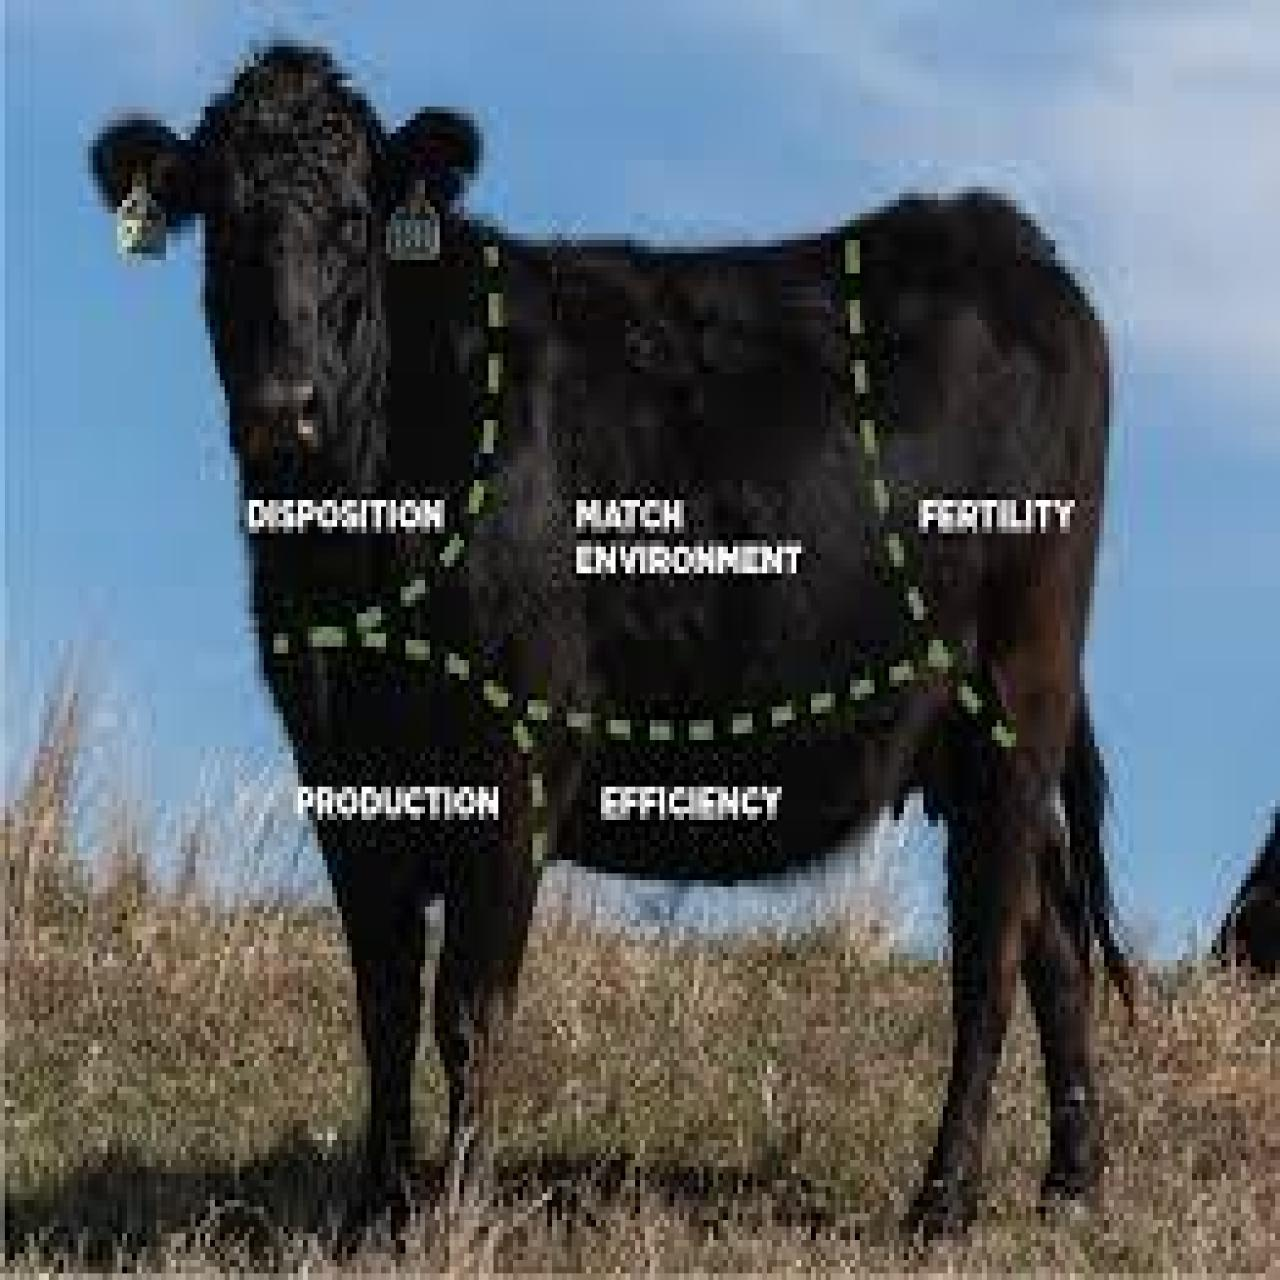cow: (88, 43, 1114, 1264)
